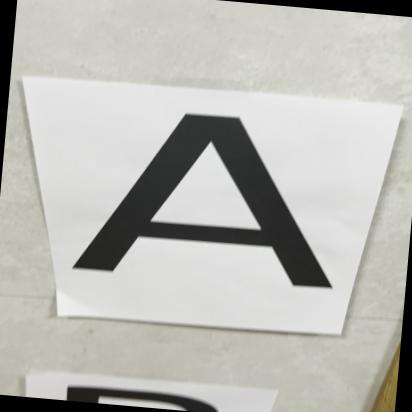seat: (14, 83, 350, 312)
